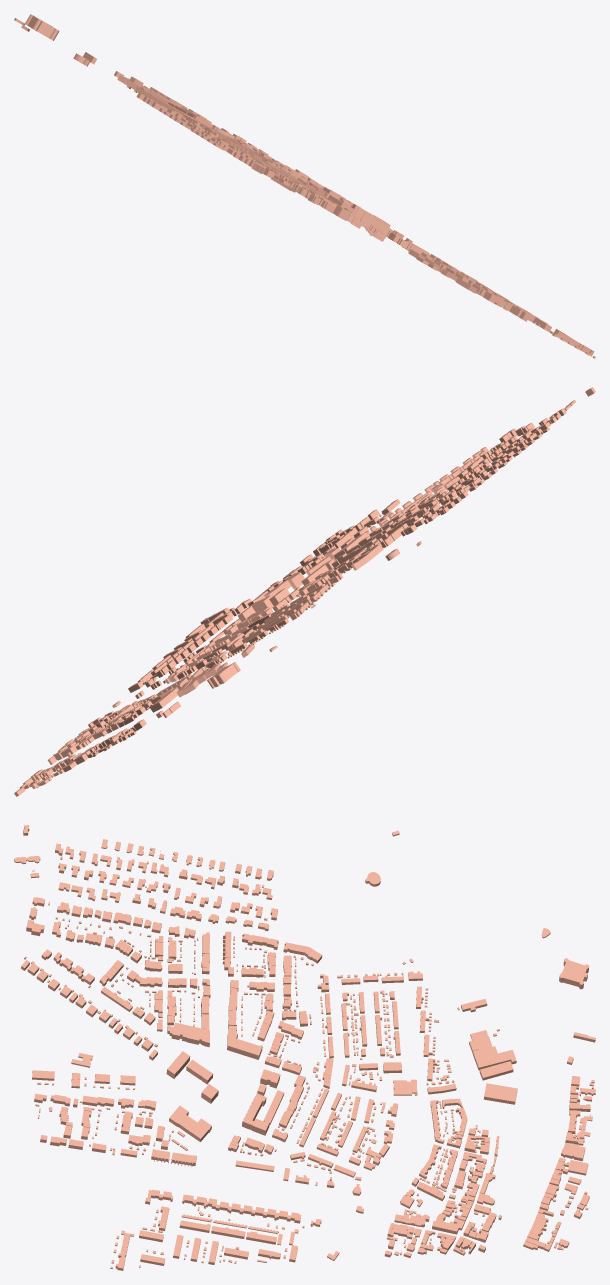
3 views of the same model, one above another, from view 1: azimuth 30°, elevation 25°; view 2: azimuth 150°, elevation 25°; view 3: azimuth 270°, elevation 25° (orthographic). The views are drawn at different scales.
Bounding box in the file's own units: 641 × 488 × 911.
